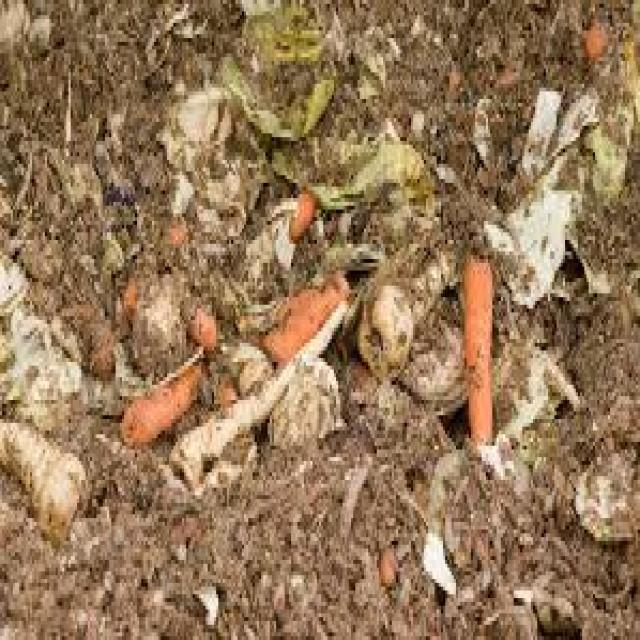Wet: (450, 215, 524, 489), (109, 344, 228, 456), (257, 281, 362, 367), (166, 262, 236, 380), (274, 177, 334, 268)
